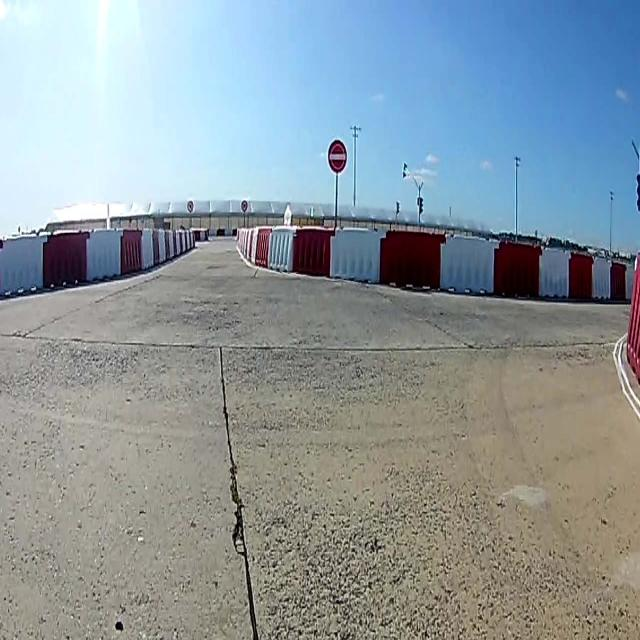girisyok: (330, 142, 346, 170)
